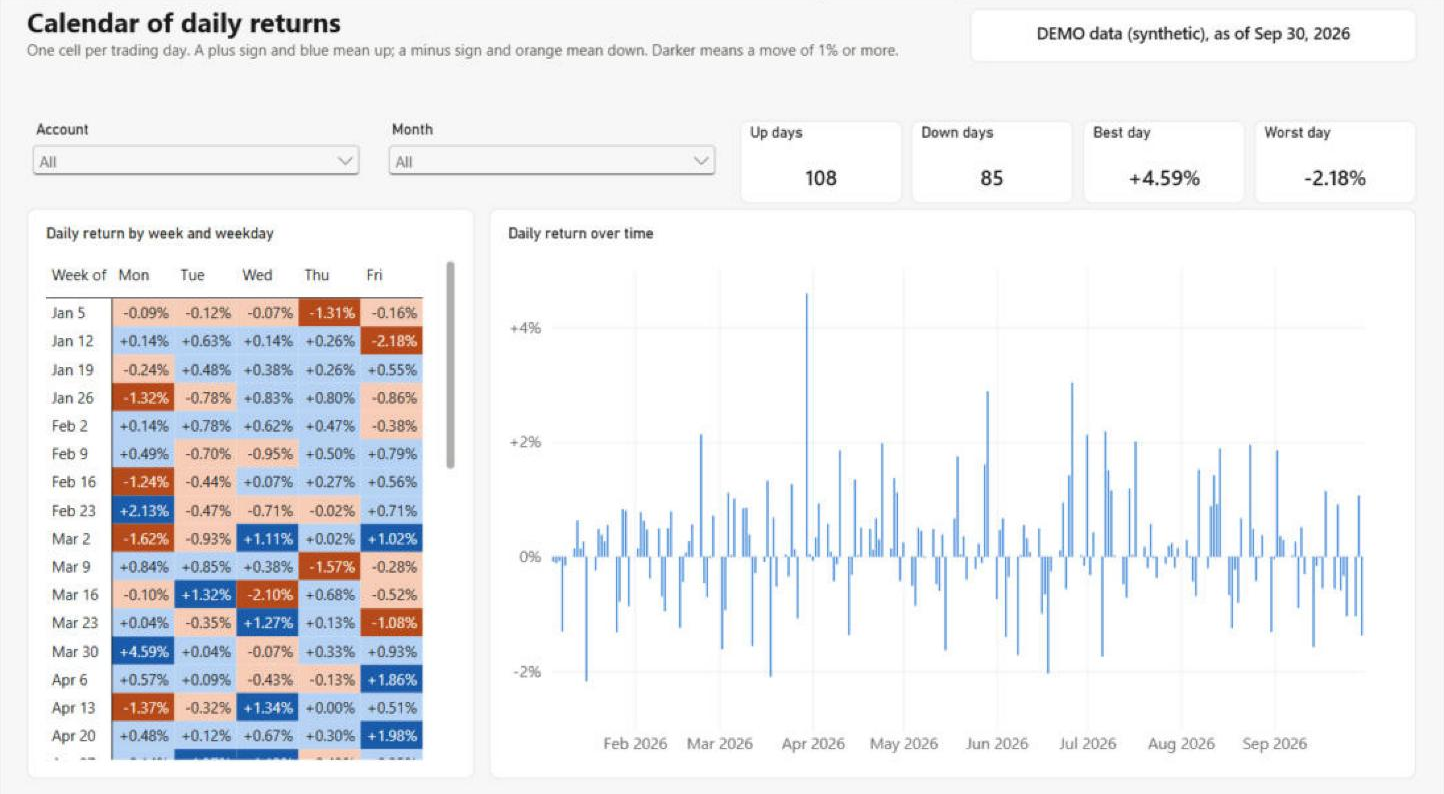

Layout of this report page (visuals, bound fields, positions):
{"tool":"powerbi","page":{"name":"Calendar","canvas":[1280,720],"ordinal":1},"visuals":[{"type":"textbox","box":[24,8,820,60],"z":0},{"type":"card","fields":{"Values":["_Measures.Data as of"]},"box":[860,12,396,48],"z":1000},{"type":"slicer","fields":{"Values":["dim_account.display_name"]},"box":[24,112,300,74],"z":3000},{"type":"slicer","fields":{"Values":["dim_date.year_month"]},"box":[340,112,300,74],"z":4000},{"type":"card","title":"Up days","fields":{"Values":["_Measures.Up days"]},"box":[656,112,144,74],"z":5000},{"type":"card","title":"Down days","fields":{"Values":["_Measures.Down days"]},"box":[808,112,144,74],"z":6000},{"type":"card","title":"Best day","fields":{"Values":["_Measures.Best day return"]},"box":[960,112,144,74],"z":7000},{"type":"card","title":"Worst day","fields":{"Values":["_Measures.Worst day return"]},"box":[1112,112,144,74],"z":8000},{"type":"pivotTable","title":"Daily return by week and weekday","fields":{"Columns":["dim_date.weekday"],"Rows":["dim_date.week_start"],"Values":["_Measures.Daily return (CAD)"]},"box":[23.9,189.8,397.2,506.3],"z":9000},{"type":"clusteredColumnChart","title":"Daily return over time","fields":{"Category":["dim_date.date"],"Y":["_Measures.Daily return (CAD)"]},"box":[433.6,189.8,822,506.3],"z":10000}]}

Visuals, with their boxes in screenshot pixels (x1, y1, x2, y2), scaled from the page's 1280x720 canvas onto the 1444x794 screenshot:
textbox: bbox=(27, 9, 952, 75)
card - _Measures.Data as of: bbox=(970, 13, 1417, 66)
slicer - dim_account.display_name: bbox=(27, 124, 366, 205)
slicer - dim_date.year_month: bbox=(384, 124, 722, 205)
"Up days" card: bbox=(740, 124, 902, 205)
"Down days" card: bbox=(912, 124, 1074, 205)
"Best day" card: bbox=(1083, 124, 1245, 205)
"Worst day" card: bbox=(1254, 124, 1417, 205)
"Daily return by week and weekday" pivotTable: bbox=(27, 209, 475, 768)
"Daily return over time" clusteredColumnChart: bbox=(489, 209, 1416, 768)
